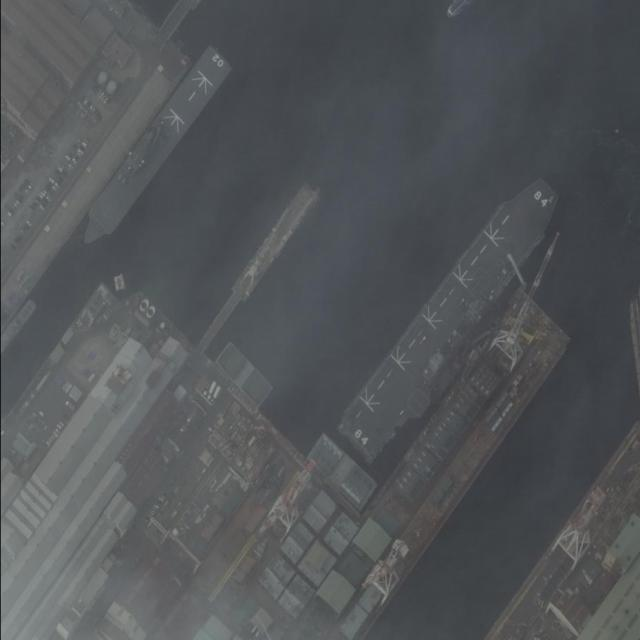Destroyer: (331, 173, 569, 459)
Dock: (189, 178, 328, 353)
Landing: (72, 45, 235, 250)
